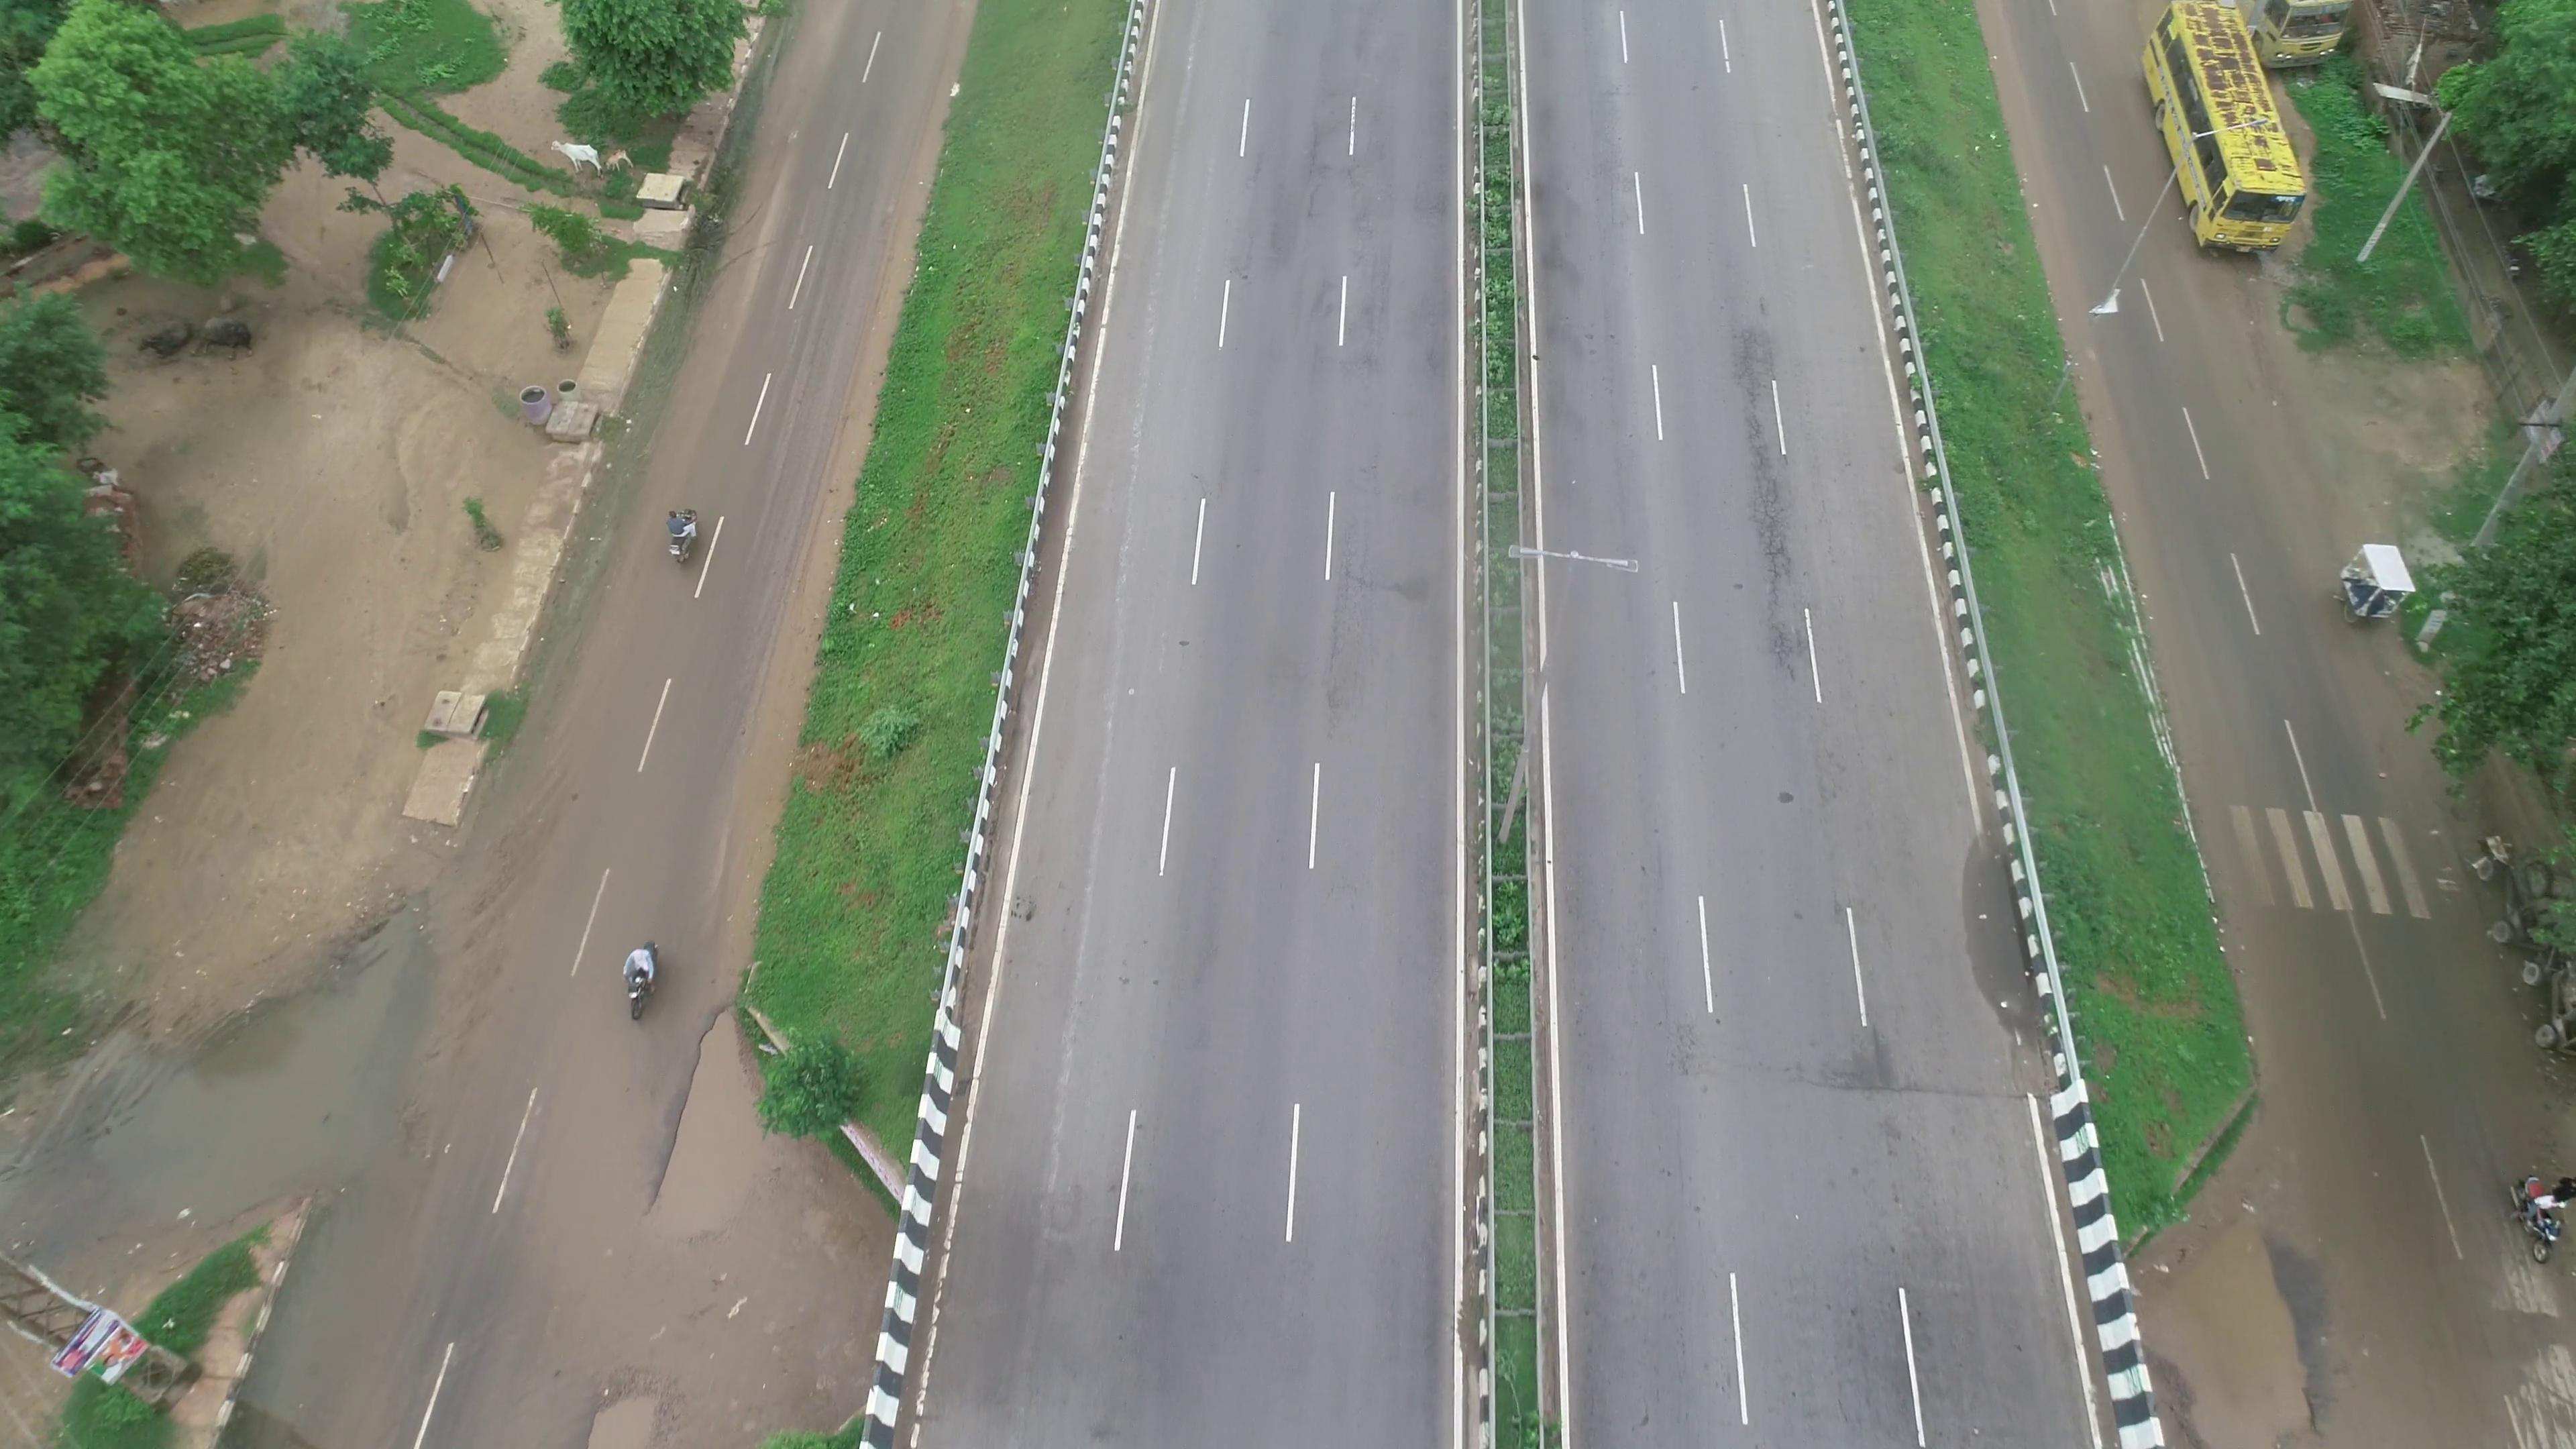Alligator_cracks: (1720, 341, 1808, 671)
